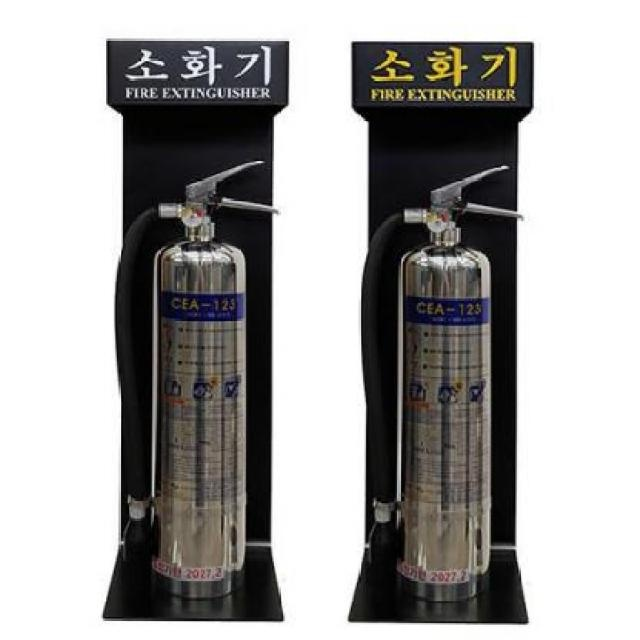fire extinguisher: (113, 160, 279, 598), (359, 163, 525, 600)
